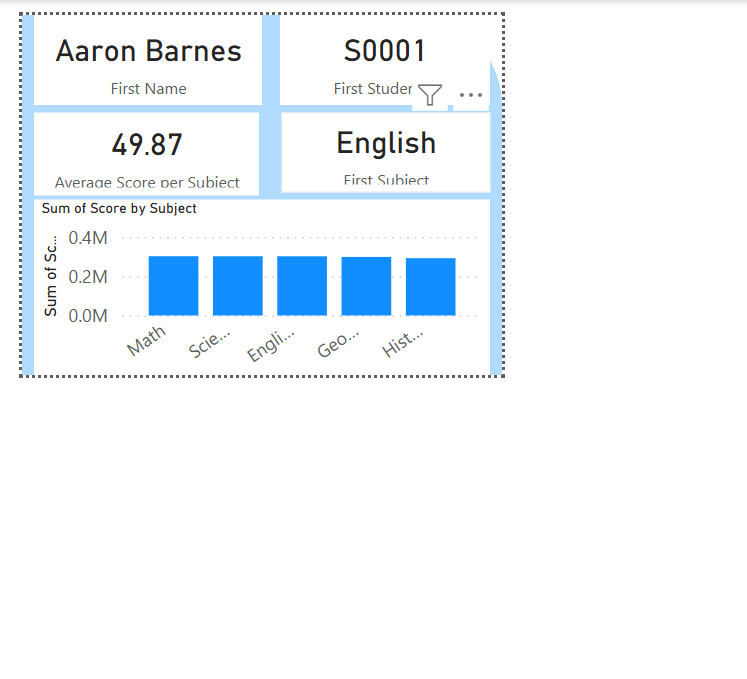

What the dashboard file says about the page in this screenshot:
{"tool":"powerbi","page":{"name":"tooltip","canvas":[320,240],"ordinal":2},"visuals":[{"type":"shape","box":[0,0,320,240],"z":0},{"type":"card","fields":{"Values":["Table.Average Score per Subject"]},"box":[8,65,150,55],"z":1000},{"type":"card","fields":{"Values":["Min(Students - Students csv.Name)"]},"box":[8,0,152,60],"z":2000},{"type":"card","fields":{"Values":["Min(Students - Students csv.StudentID)"]},"box":[172,0,140,60],"z":3000},{"type":"card","fields":{"Values":["Min(Scores - Scores csv.Subject)"]},"box":[173,65,139,53],"z":4000},{"type":"clusteredColumnChart","fields":{"Category":["Scores - Scores csv.Subject"],"Y":["Sum(Scores - Scores csv.Score)"]},"box":[8,123,304,117],"z":4001}]}

Visuals, with their boxes on the page's 320x240 design canvas (x1, y1, x2, y2). These are canvas units, not pixel positions in the 747x679 screenshot, which may show the page scaled, cropped or inside an application window:
shape: 0/0/320/240
card - Table.Average Score per Subject: 8/65/158/120
card - Min(Students - Students csv.Name): 8/0/160/60
card - Min(Students - Students csv.StudentID): 172/0/312/60
card - Min(Scores - Scores csv.Subject): 173/65/312/118
clusteredColumnChart - Scores - Scores csv.Subject x Sum(Scores - Scores csv.Score): 8/123/312/240
